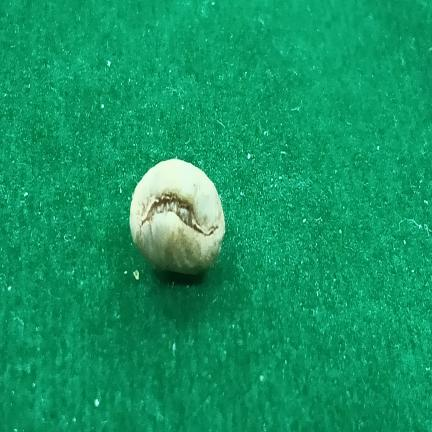cut: (130, 159, 225, 274)
